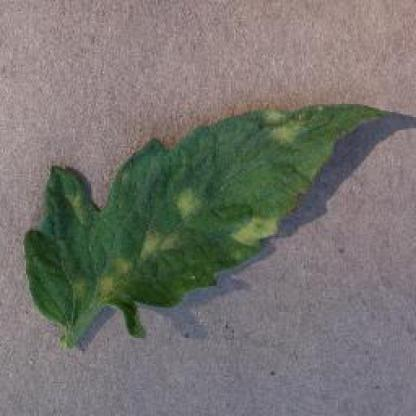Tomato_Leaf_Mold: (24, 105, 382, 336)
